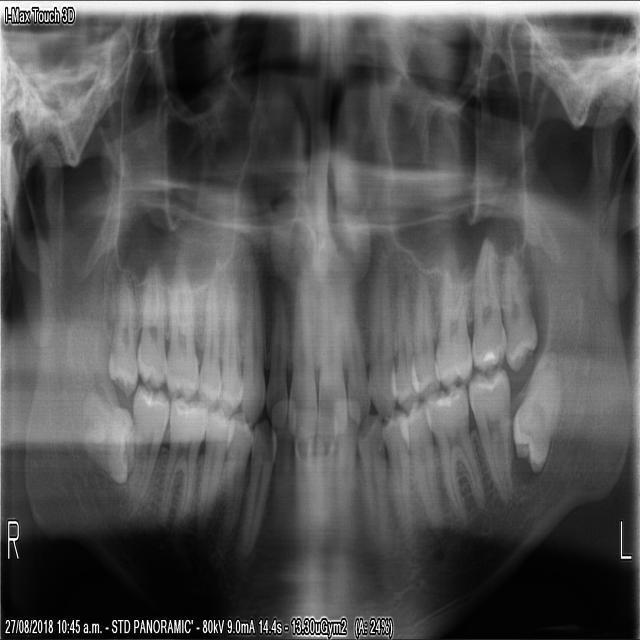LCD: (355, 415, 388, 548)
LCU: (368, 243, 397, 419)
LIU: (338, 275, 372, 424), (316, 272, 346, 438)
LMD: (432, 389, 485, 530), (511, 349, 563, 478), (469, 370, 514, 509)
LMU: (470, 232, 508, 377), (435, 261, 472, 393), (502, 245, 537, 375)
LPMD: (408, 403, 445, 544), (384, 412, 417, 548)
LPMU: (413, 264, 440, 401), (396, 265, 420, 413)
RCD: (231, 419, 275, 564)
RCU: (238, 250, 264, 426)
RIU: (285, 267, 316, 441), (263, 276, 286, 429)
RMD: (114, 382, 166, 525), (155, 399, 203, 539), (79, 386, 130, 485)
RMU: (163, 261, 198, 402), (105, 265, 136, 399), (133, 257, 163, 389)
RPMD: (193, 407, 225, 543), (218, 411, 247, 541)
RPMU: (214, 263, 238, 419), (194, 260, 218, 405)
